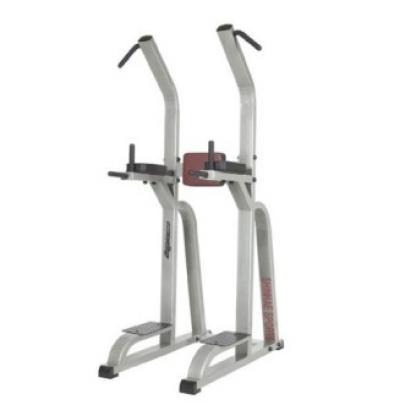chinning dipping: (98, 22, 287, 395)
